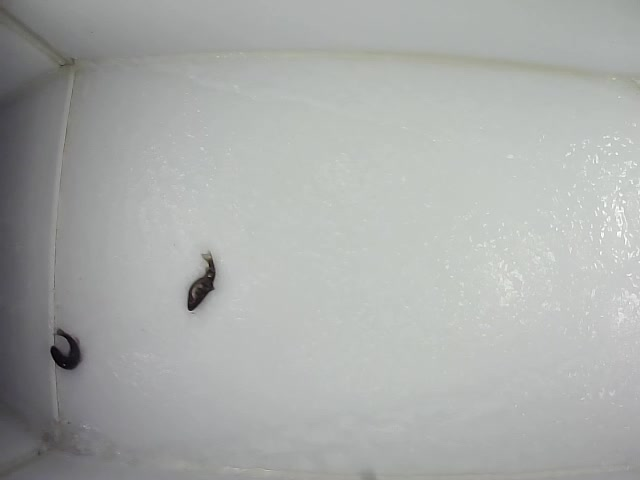fish: (186, 251, 216, 313), (49, 328, 82, 371)
